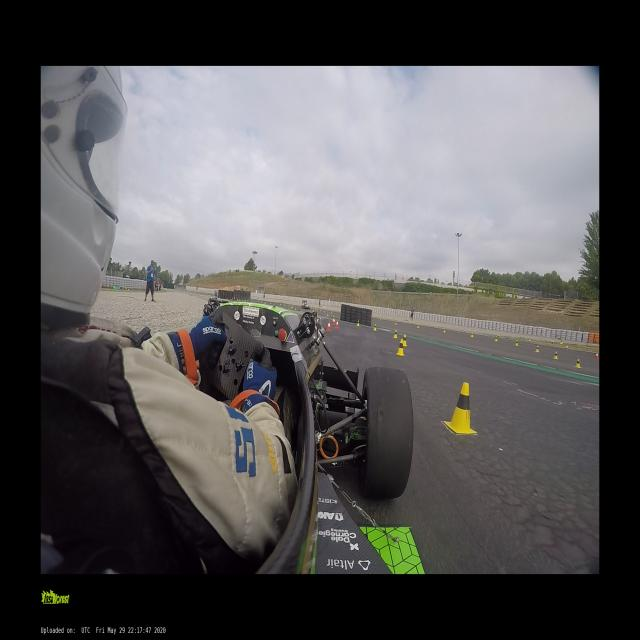orange_cone: (326, 320, 331, 332), (594, 352, 599, 360), (335, 320, 339, 329), (332, 318, 336, 326), (565, 344, 568, 350), (528, 338, 531, 343), (497, 333, 500, 338)
yellow_cone: (444, 382, 476, 434), (396, 339, 404, 356), (401, 334, 407, 347), (574, 359, 581, 368), (553, 352, 558, 360), (393, 330, 397, 338), (535, 345, 539, 352), (356, 319, 360, 326), (373, 324, 376, 331), (515, 339, 518, 346), (494, 336, 497, 342), (560, 338, 563, 344), (470, 332, 473, 337), (394, 320, 397, 325), (443, 327, 445, 333), (332, 315, 334, 320), (417, 324, 419, 328)
